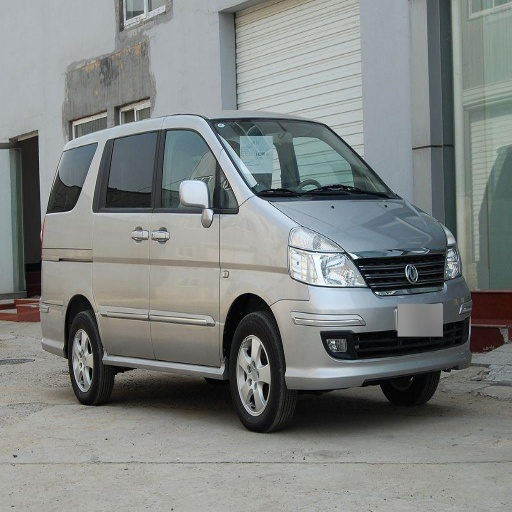front_bumper: (274, 250, 472, 387)
front_right_door: (146, 121, 236, 364)
front_right_light: (289, 227, 362, 287)
trunk: (44, 253, 90, 344)
